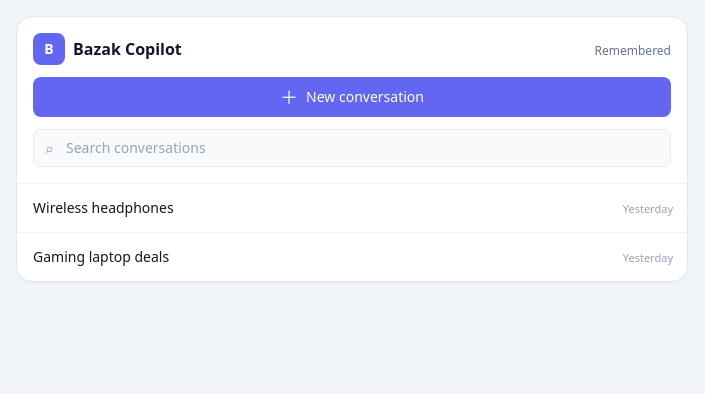
Test: HomePage (conversations list) › filters by title and shows a no-match state
This screenshot has width=705, height=394.
expect the text "Wireless headphones" is shown: met, box 33,198 -> 174,218
Step 1. Type "laptop" into the field labelled "Search conversations" → x=352, y=148, box 33,129 -> 671,167
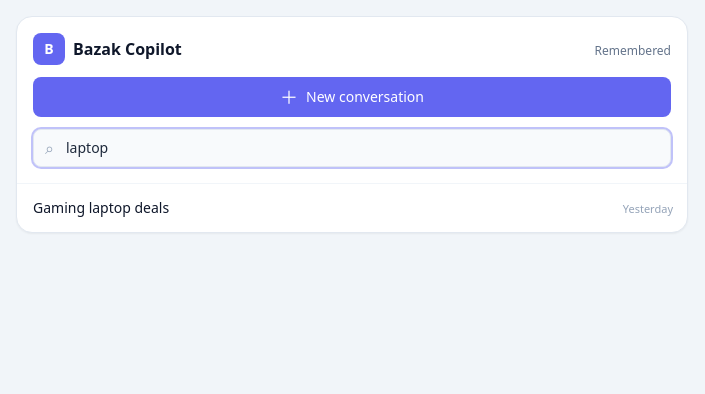
expect the text "Gaming laptop deals" is shown: met, box 33,198 -> 169,218
expect the link "Wireless headphones" is gone: met
Step 2. Replace the text in the field named "Search conversations" with "drone" → x=352, y=148, box 33,129 -> 671,167
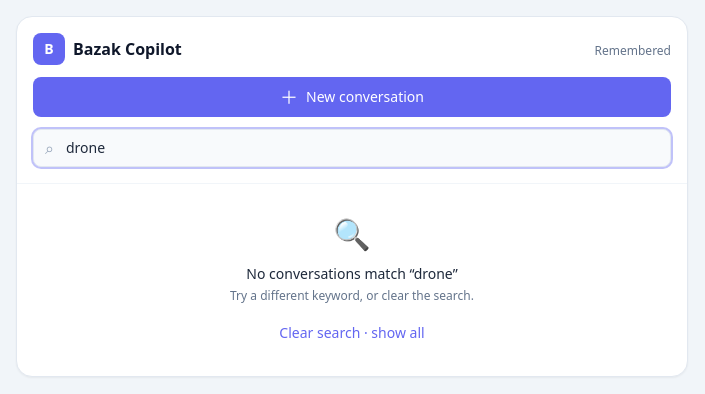
expect the heading "No conversations match “drone”" is shown: met, box 246,264 -> 458,283
